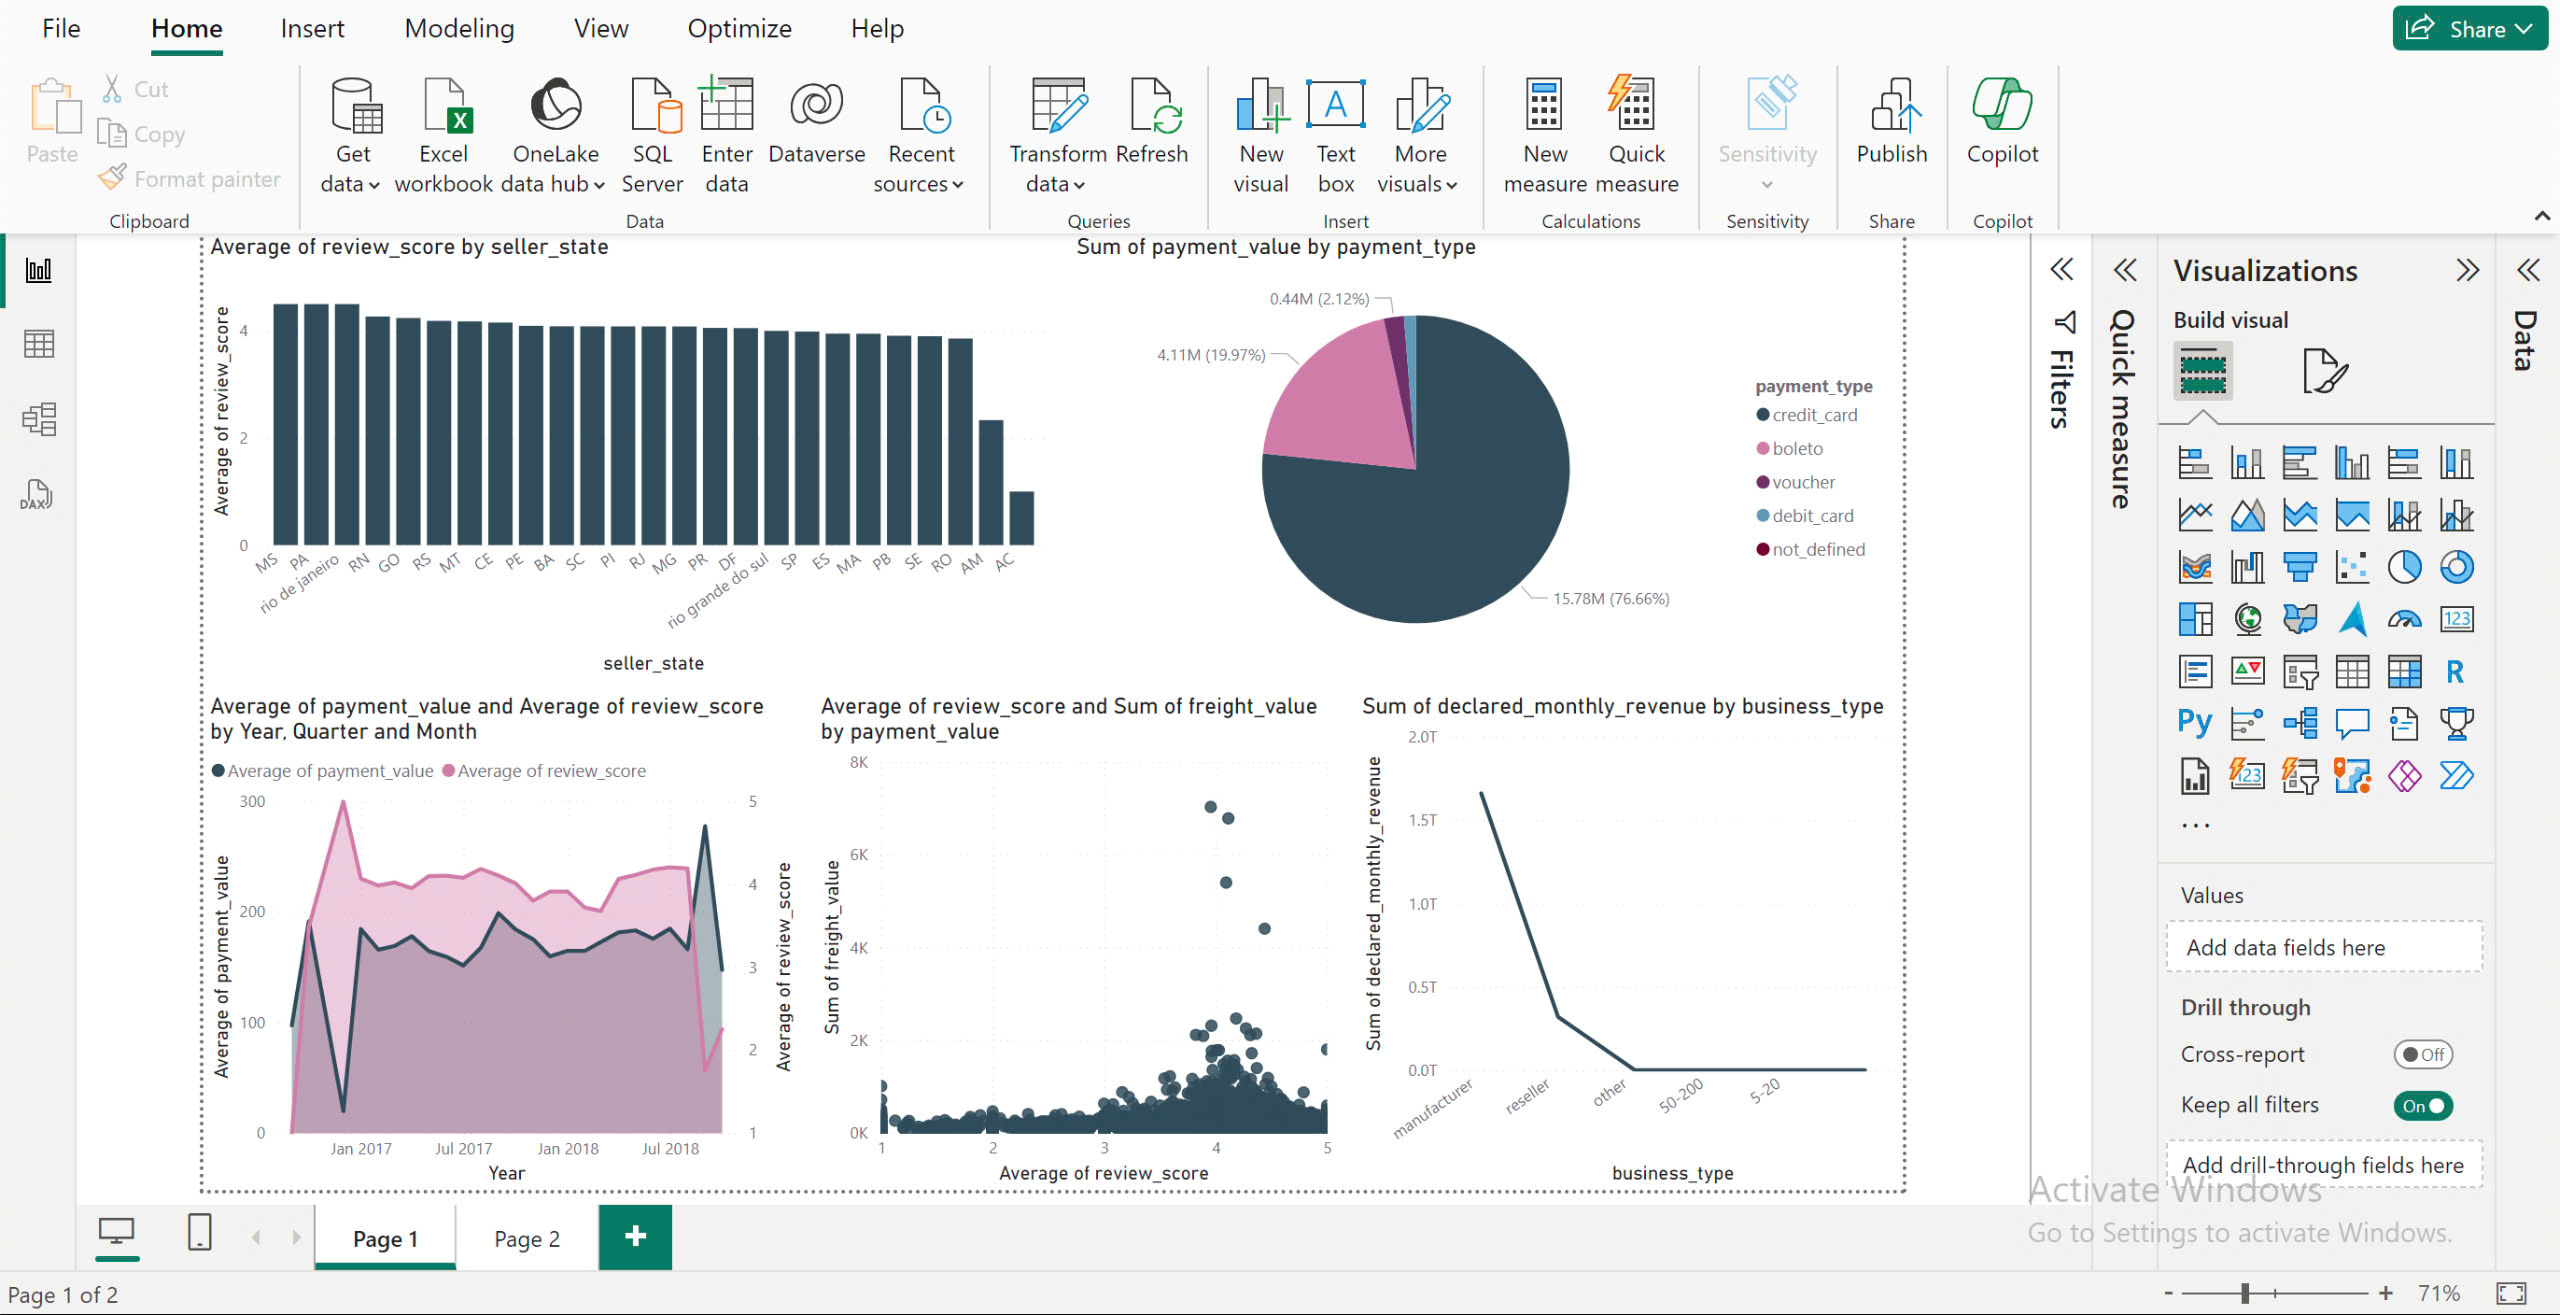

The page's visual inventory and layout, read from the dashboard file:
{"tool":"powerbi","page":{"name":"Warehouse","canvas":[1280,720],"ordinal":0},"visuals":[{"type":"columnChart","fields":{"Y":["Avg(fact_order_item.review_score)"],"Category":["fact_order_item.seller_state"]},"box":[0,0,639.8,336.1],"z":0},{"type":"pieChart","fields":{"Category":["fact_orders.payment_type"],"Y":["Sum(fact_orders.payment_value)"]},"box":[652.5,0,627.2,336.1],"z":1},{"type":"areaChart","fields":{"Category":["fact_orders.date_id.Variation.Date Hierarchy.Year","fact_orders.date_id.Variation.Date Hierarchy.Quarter","fact_orders.date_id.Variation.Date Hierarchy.Month"],"Y":["Avg(fact_orders.payment_value)"],"Y2":["Avg(fact_orders.review_score)"]},"box":[0,346.1,449,374.5],"z":2},{"type":"lineChart","fields":{"Category":["fact_closed_deals.business_type"],"Y":["Sum(fact_closed_deals.declared_monthly_revenue)"]},"box":[868.3,346.1,411.7,374.5],"z":3},{"type":"scatterChart","fields":{"Category":["fact_order_item.payment_value"],"X":["Avg(fact_order_item.review_score)"],"Y":["Sum(fact_order_item.freight_value)"]},"box":[459.5,346.1,395.3,374.5],"z":4}]}

Visuals, with their boxes on the page's 1280x720 design canvas (x1, y1, x2, y2). These are canvas units, not pixel positions in the 2560x1315 screenshot, which may show the page scaled, cropped or inside an application window:
columnChart - Avg(fact_order_item.review_score) x fact_order_item.seller_state: [left=0, top=0, right=640, bottom=336]
pieChart - fact_orders.payment_type x Sum(fact_orders.payment_value): [left=652, top=0, right=1280, bottom=336]
areaChart - fact_orders.date_id.Variation.Date Hierarchy.Year x fact_orders.date_id.Variation.Date Hierarchy.Quarter: [left=0, top=346, right=449, bottom=721]
lineChart - fact_closed_deals.business_type x Sum(fact_closed_deals.declared_monthly_revenue): [left=868, top=346, right=1280, bottom=721]
scatterChart - fact_order_item.payment_value x Avg(fact_order_item.review_score): [left=460, top=346, right=855, bottom=721]
